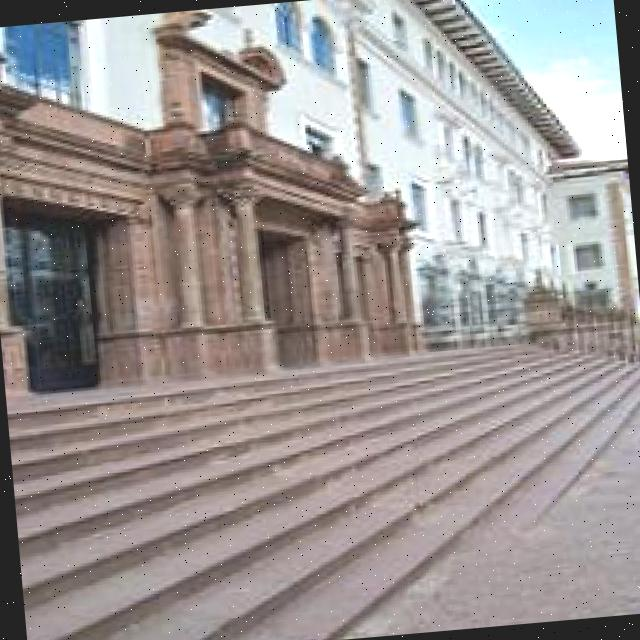stairs: (4, 327, 640, 640)
